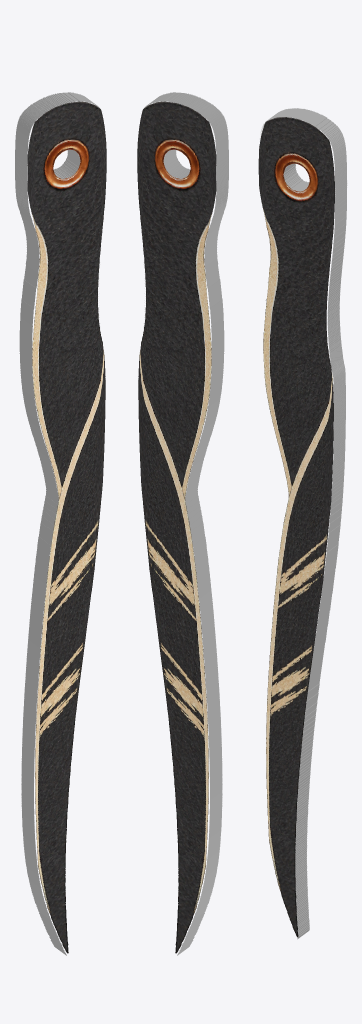
Rendered from LowerLeg.glb.
3 renders of one model, left to right at view 1: azimuth 30°, elevation 25°; view 2: azimuth 150°, elevation 25°; view 3: azimuth 330°, elevation 25°, orthographic. The views are drawn at different scales.
Parts seen in each view (by area): view 1: PaperVolume; view 2: PaperVolume; view 3: PaperVolume.
Part boxes in pixels (x1,y1,x2,y2): PaperVolume: (15, 92, 106, 955); PaperVolume: (137, 92, 228, 955); PaperVolume: (258, 108, 347, 939).
Size of the model in its own units: 0.3 by 3.56 by 0.08.
3 materials, 2 textured.
